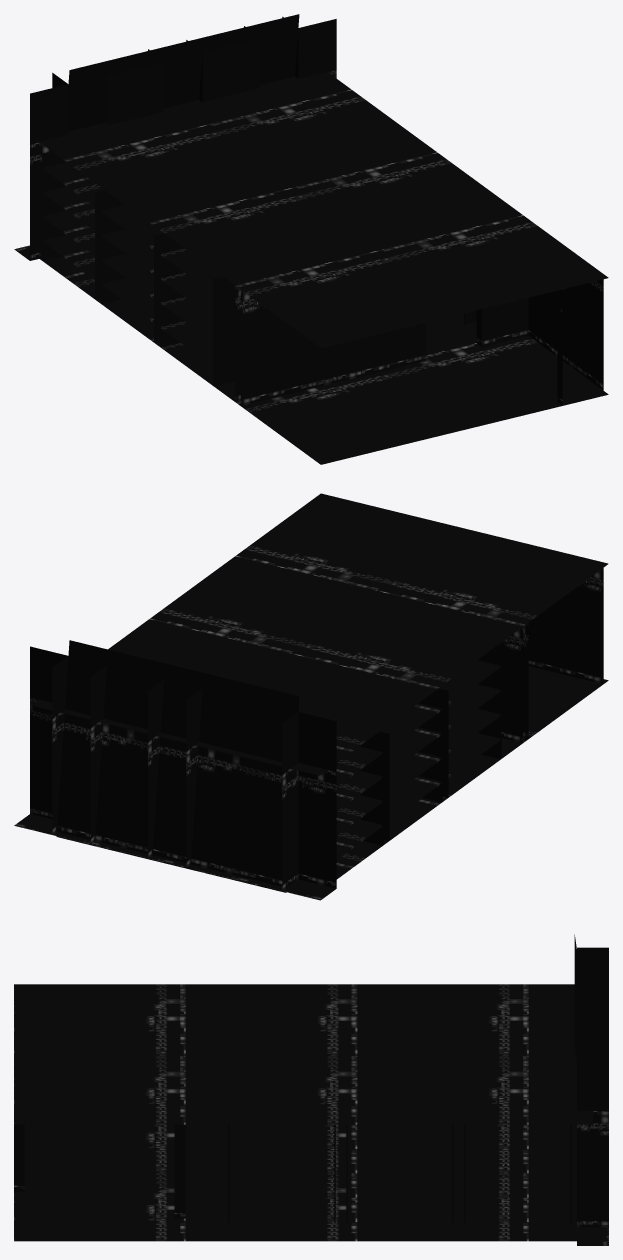
The model's file is room1archive_opt.obj.
3 renders of one model, top to bottom at view 1: azimuth 30°, elevation 25°; view 2: azimuth 150°, elevation 25°; view 3: azimuth 270°, elevation 25°, orthographic.
Size of the model in its own units: 1056 by 616 by 1776.
